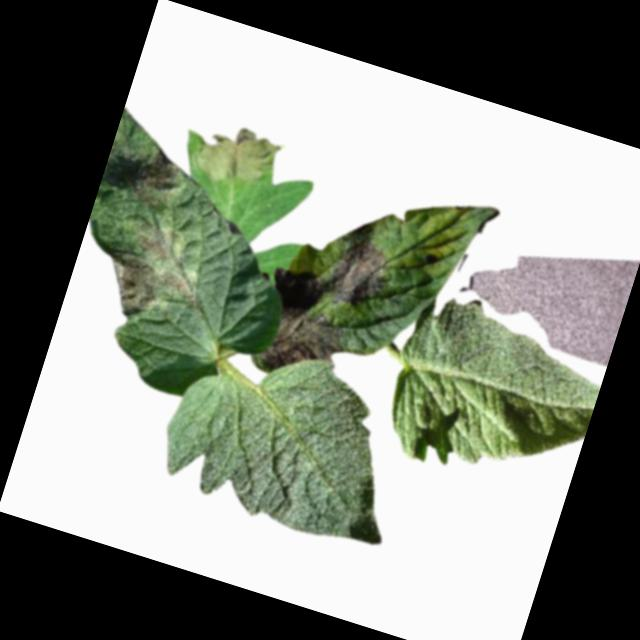Late_blight: (265, 217, 392, 331), (95, 248, 201, 334), (189, 114, 290, 199), (258, 303, 348, 387), (127, 143, 198, 216), (127, 216, 190, 269)
